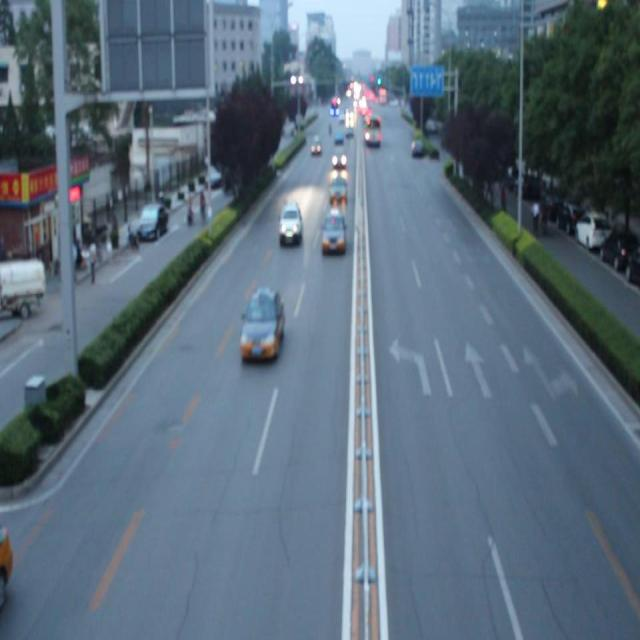car: (240, 286, 283, 361), (320, 208, 346, 254), (278, 203, 301, 246), (328, 171, 348, 204)
